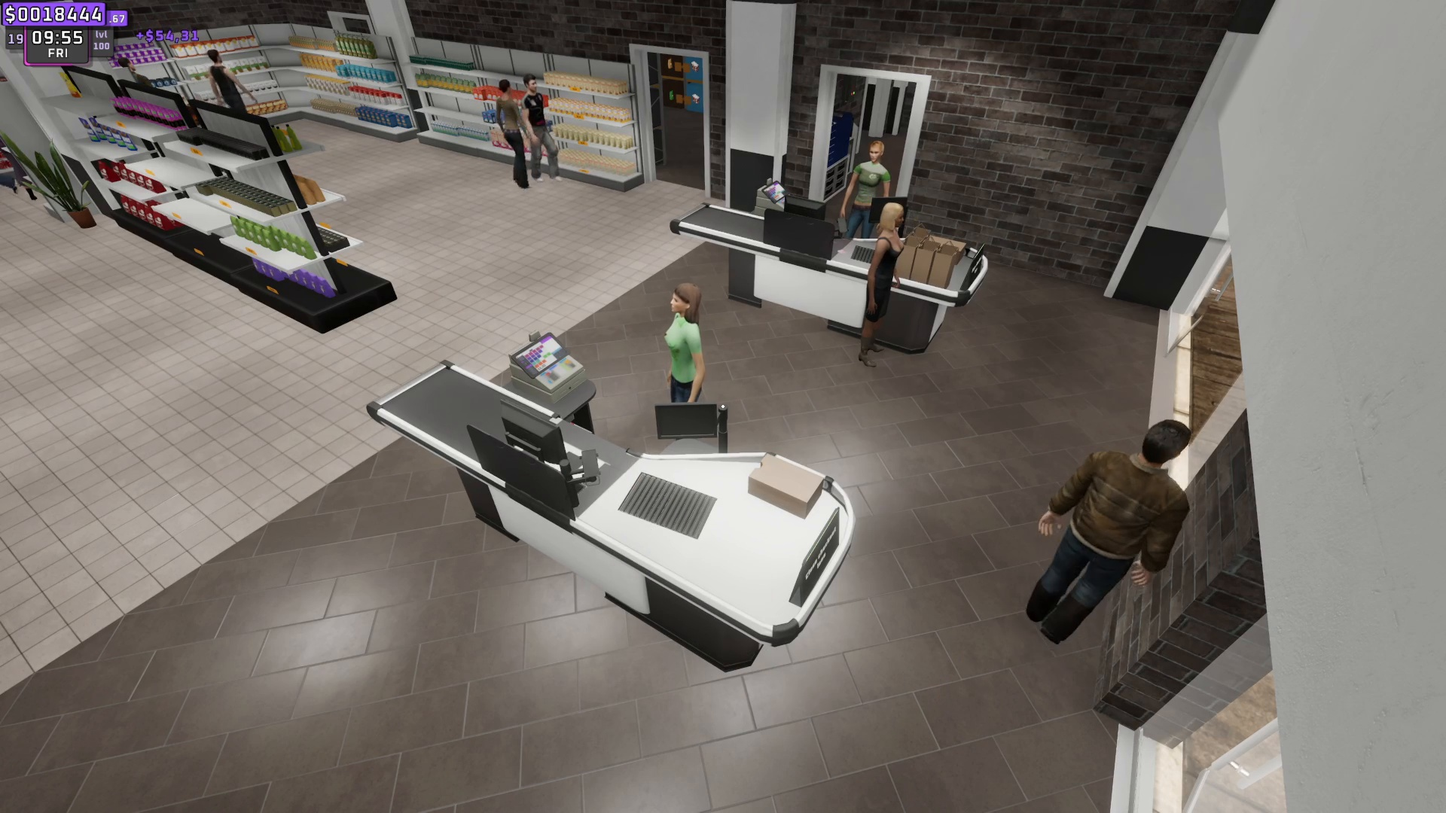Client: (859, 200, 909, 359)
Employee: (665, 289, 703, 398), (851, 141, 885, 230)
